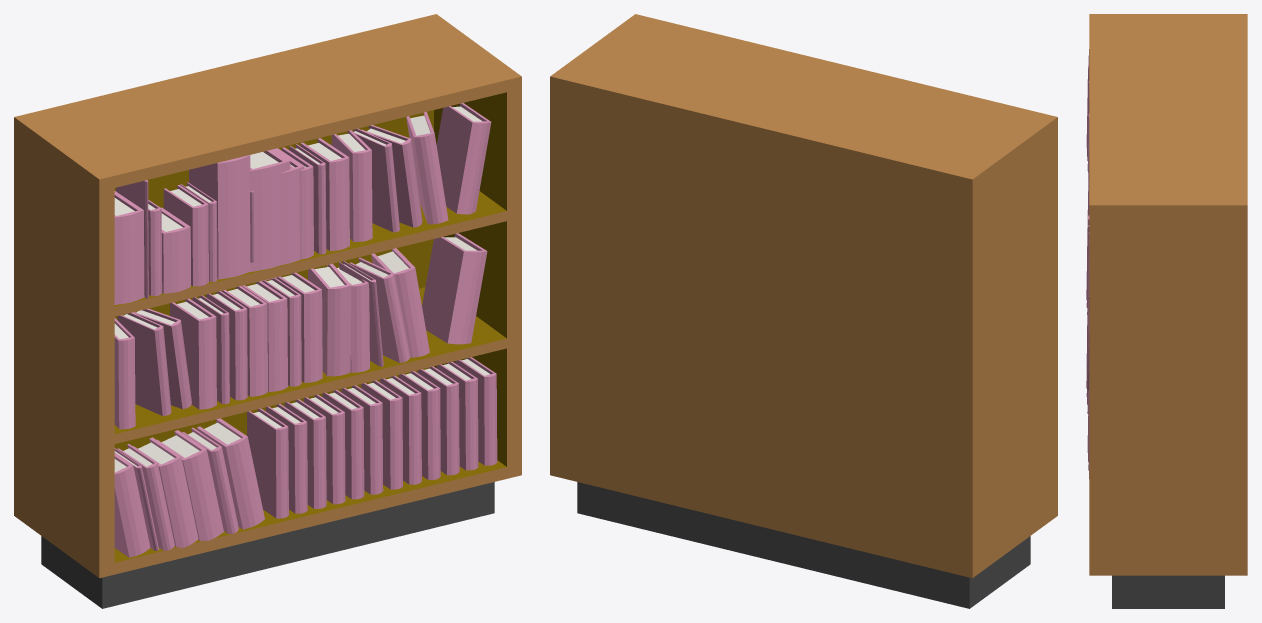
The model's file is bookshelf_2.fbx.
3 renders of one model, left to right at view 1: azimuth 30°, elevation 25°; view 2: azimuth 150°, elevation 25°; view 3: azimuth 270°, elevation 25°, orthographic. The views are drawn at different scales.
Visible parts, largest first — view 1: mesh_Bookshelf.001, Book1.042, Book1.007, Book1.027, Book1.009, Book1.045, Book1.028, Book1.038, Book1.036, Book1.052, Book1.001, Book1.050 (+41 smaller); view 2: mesh_Bookshelf.001; view 3: mesh_Bookshelf.001.
Boxes of the visible parts, x1,y1,x2,y2 form: mesh_Bookshelf.001: (14,14,521,608); Book1.042: (422,233,487,344); Book1.007: (189,155,250,279); Book1.027: (436,103,491,214); Book1.009: (249,149,290,281); Book1.045: (247,408,288,518); Book1.028: (169,298,216,409); Book1.038: (308,263,351,376); Book1.036: (117,312,171,415); Book1.052: (197,418,264,529); Book1.001: (114,191,144,304); Book1.050: (157,430,223,541); mesh_Bookshelf.001: (550,14,1057,608); mesh_Bookshelf.001: (1089,14,1247,608).
Bounding box in the file's own units: 200 × 200 × 71.27.
